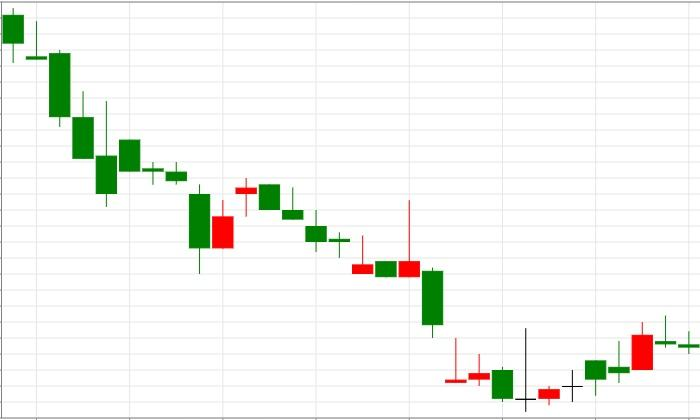morning_star_rise: (398, 201, 560, 412)
